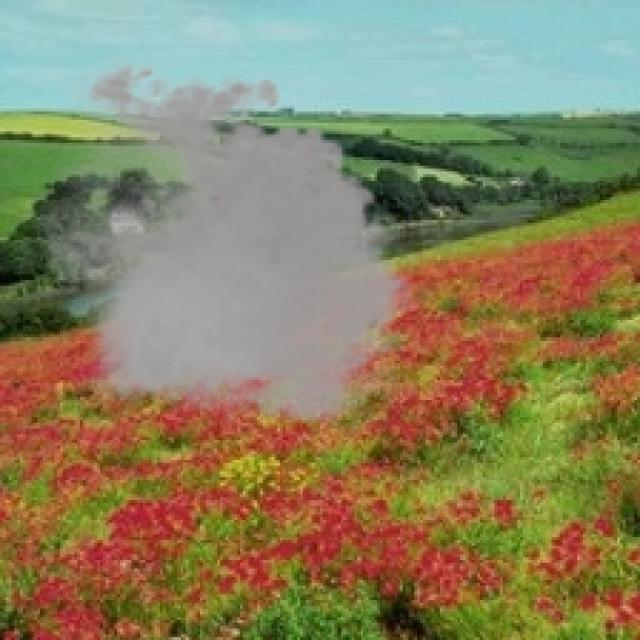smoke: (23, 52, 428, 437)
